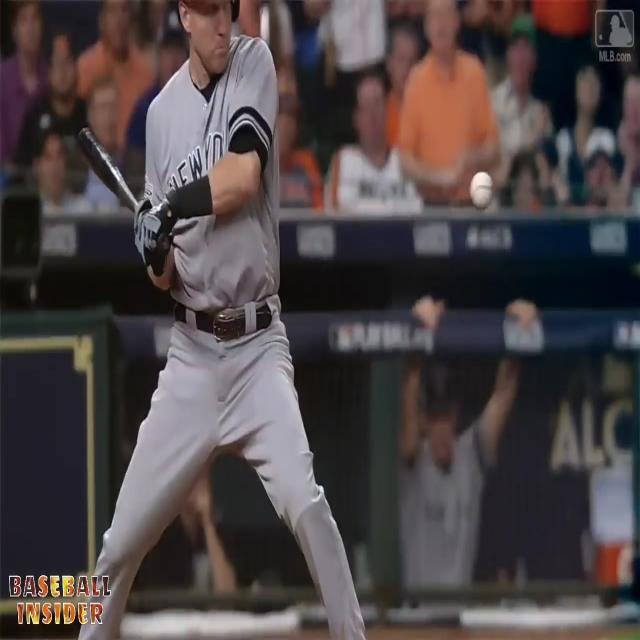baseball: (470, 170, 494, 210)
